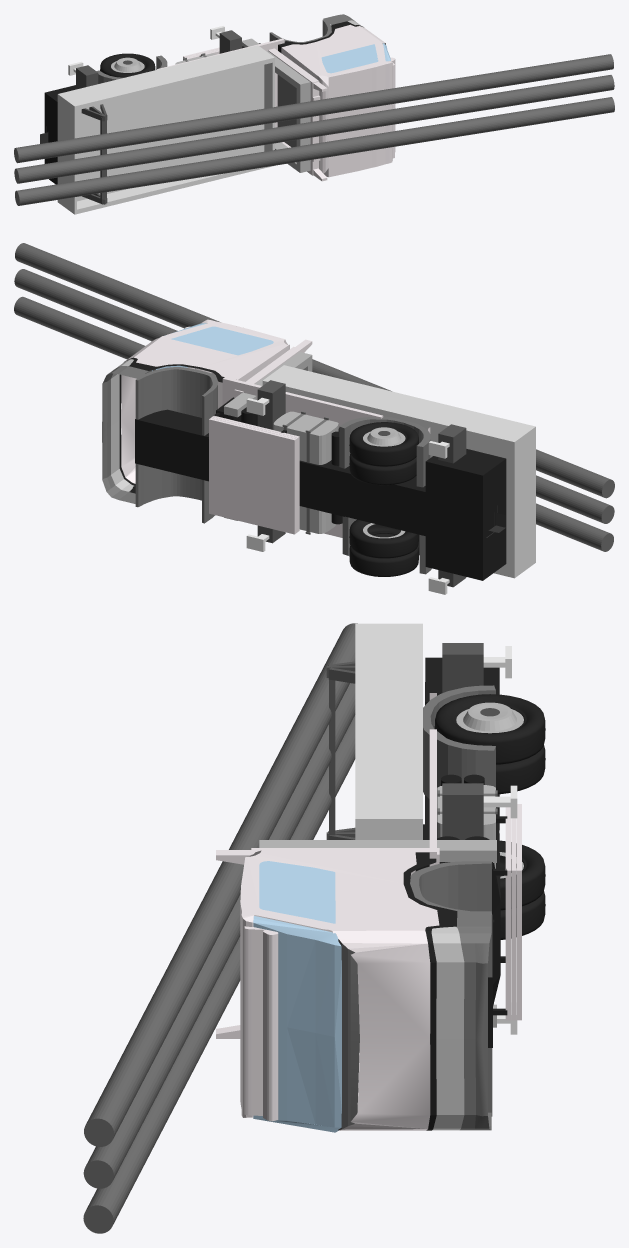
The model's file is main.glb.
3 views of the same model, one above another, from view 1: azimuth 30°, elevation 25°; view 2: azimuth 150°, elevation 25°; view 3: azimuth 270°, elevation 25° (orthographic). The views are drawn at different scales.
Visible parts, largest first — view 1: Cylinder.290, Cube.214, front.023, front.025, Cube.212, front.022, front.024, tire3.002, Cube.213, Cube.210, Cube.203, Cube.204 (+1 smaller); view 2: front.022, front.023, Cylinder.290, Cube.214, front.025, tire3.002, tire4.002, front.021, front.024, Cube.204, Cube.208, front.019 (+3 smaller); view 3: front.023, Cylinder.290, front.024, Cube.214, front.025, tire3.002, front.022, front.019, front.020, Cube.212, tire4.002, Cube.204 (+4 smaller).
Boxes of the visible parts, <box> form: Cylinder.290: <box>14,54,614,205</box>; Cube.214: <box>57,45,274,214</box>; front.023: <box>119,24,395,177</box>; front.025: <box>96,14,355,147</box>; Cube.212: <box>242,38,310,172</box>; front.022: <box>44,21,363,184</box>; front.024: <box>321,43,390,73</box>; tire3.002: <box>100,53,155,77</box>; Cube.213: <box>268,48,327,181</box>; Cube.210: <box>81,104,107,204</box>; Cube.203: <box>76,65,98,89</box>; Cube.204: <box>219,30,241,53</box>; front.022: <box>119,357,506,580</box>; front.023: <box>121,319,430,537</box>; Cylinder.290: <box>14,243,614,551</box>; Cube.214: <box>262,365,535,578</box>; front.025: <box>102,366,431,574</box>; tire3.002: <box>349,422,418,485</box>; tire4.002: <box>349,519,418,576</box>; front.021: <box>273,411,338,533</box>; front.024: <box>152,323,273,371</box>; Cube.204: <box>257,380,285,543</box>; Cube.208: <box>246,397,449,594</box>; front.019: <box>111,359,133,491</box>; front.023: <box>240,693,521,1130</box>; Cylinder.290: <box>83,623,357,1233</box>; front.024: <box>253,861,341,1132</box>; Cube.214: <box>355,623,422,839</box>; front.025: <box>410,685,495,1130</box>; tire3.002: <box>434,694,545,794</box>; front.022: <box>403,657,507,1130</box>; front.019: <box>431,926,464,1130</box>; front.020: <box>338,939,359,1130</box>; Cube.212: <box>259,840,496,1027</box>; tire4.002: <box>499,840,545,939</box>; Cube.204: <box>442,783,483,839</box>.
Bounding box in the file's own units: 36.91 × 7.91 × 13.82.
